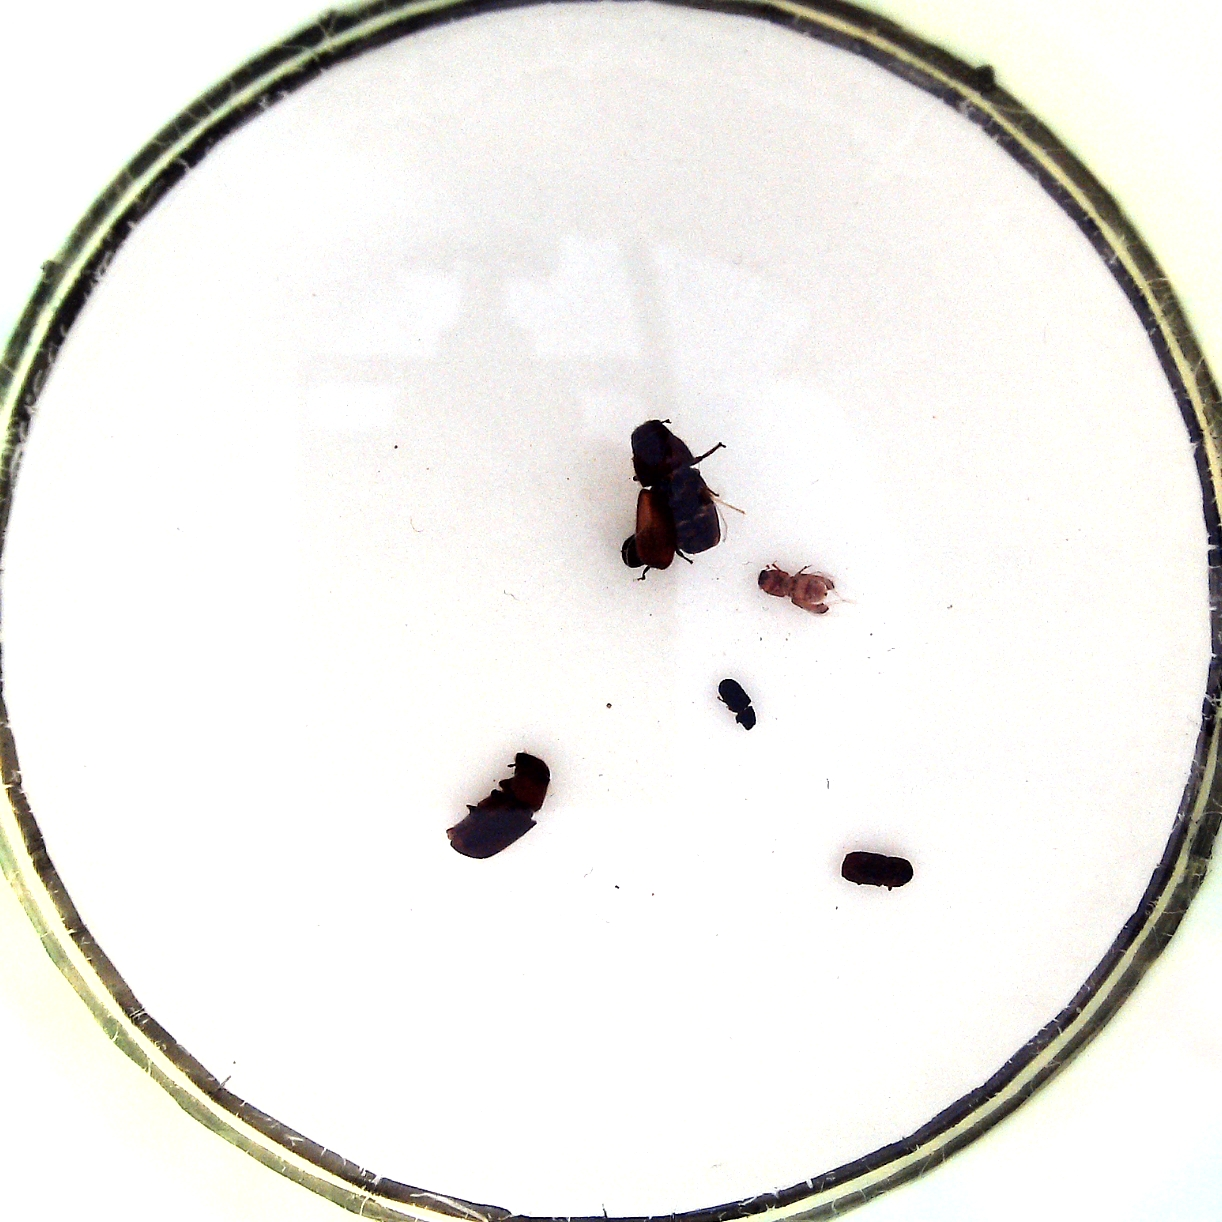Leconte: (631, 419, 739, 567), (442, 749, 553, 861)
Linnaeus: (834, 849, 921, 893)
acuminatus: (756, 561, 840, 620)
coleoptera: (709, 675, 758, 733)
